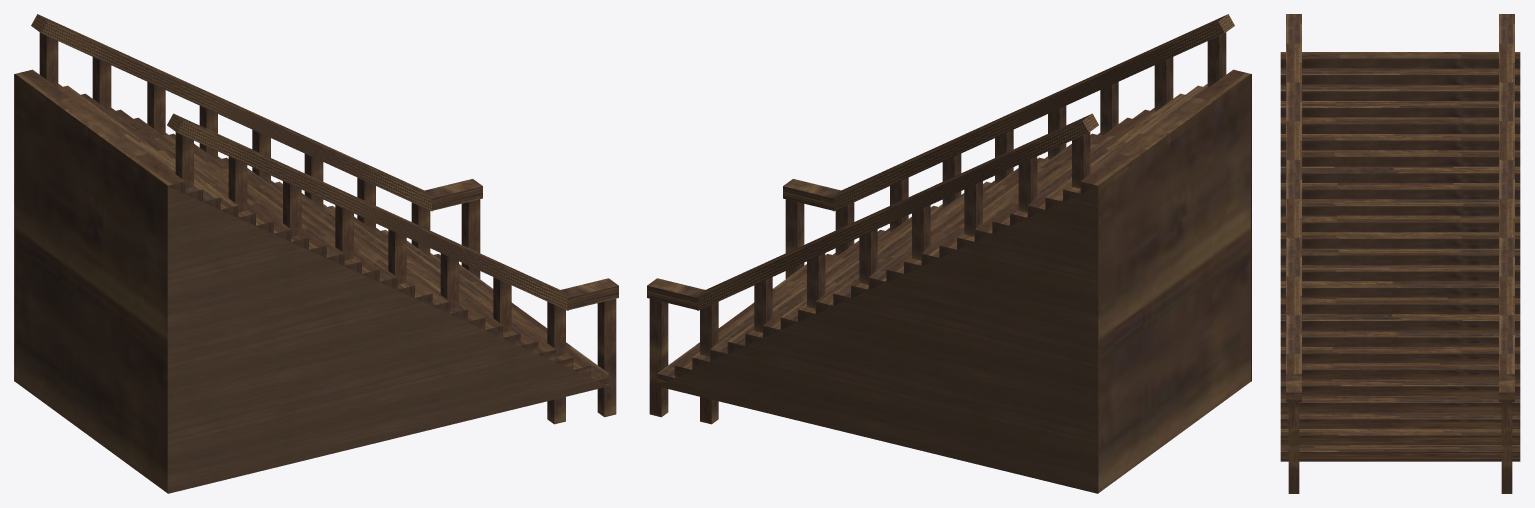
Rendered from stairs.glb.
3 renders of one model, left to right at view 1: azimuth 30°, elevation 25°; view 2: azimuth 150°, elevation 25°; view 3: azimuth 270°, elevation 25°, orthographic. The views are drawn at different scales.
Visible parts, largest first — view 1: Piano, Cube, Cubo, Cubo.001; view 2: Piano.001, Cube, Cubo.001, Cubo; view 3: Cube, Cubo, Cubo.001.
Part boxes in pixels (x1,y1,x2,y2): Piano: (167, 186, 607, 493); Cube: (15, 69, 608, 492); Cubo: (167, 113, 618, 424); Cubo.001: (31, 14, 482, 278); Piano.001: (658, 186, 1098, 493); Cube: (657, 69, 1250, 492); Cubo.001: (647, 113, 1098, 424); Cubo: (783, 14, 1234, 278); Cube: (1280, 52, 1520, 461); Cubo: (1286, 14, 1301, 493); Cubo.001: (1499, 14, 1514, 493).
Size of the model in its own units: 7.74 by 6.51 by 4.52.
Materials: 5 (5 with a texture image).
